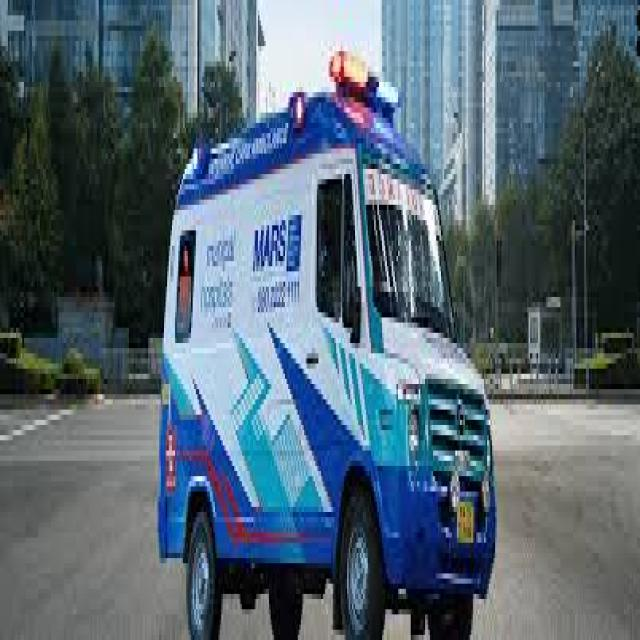ambulance: (159, 51, 495, 635)
